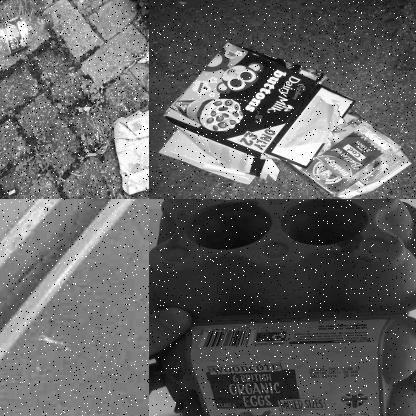cardboard: (152, 199, 415, 415), (152, 41, 351, 188), (112, 104, 148, 195)
plastic: (0, 199, 148, 415), (279, 110, 415, 198), (0, 11, 56, 69)
